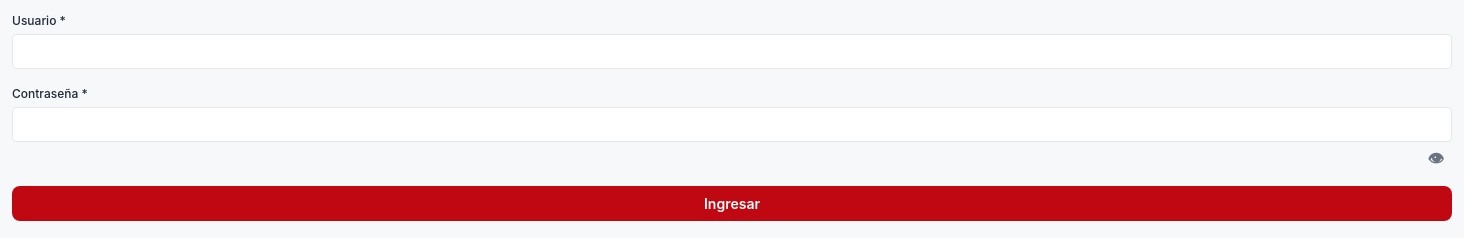
Test: LoginForm › al recibir un error del servidor limpia y reenfoca la contraseña
In the field labelled "Usuario *": [732, 52] box [12,34,1452,69], type "estudiante.demo"
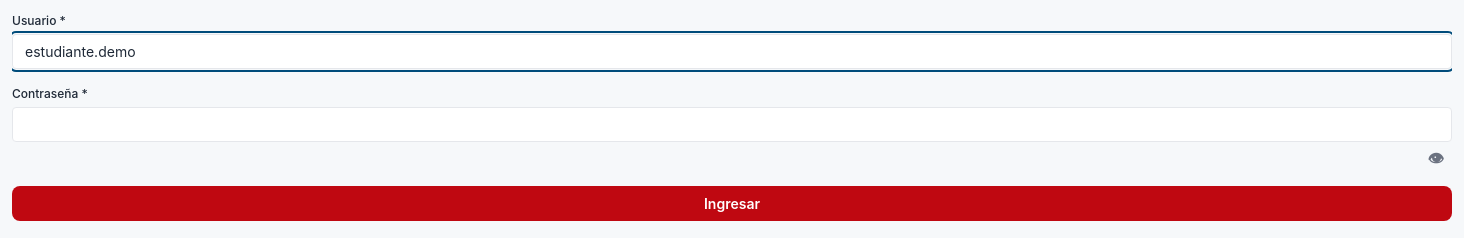
In the password field labelled "Contraseña *": [732, 124] box [12,107,1452,142], type "incorrecta"
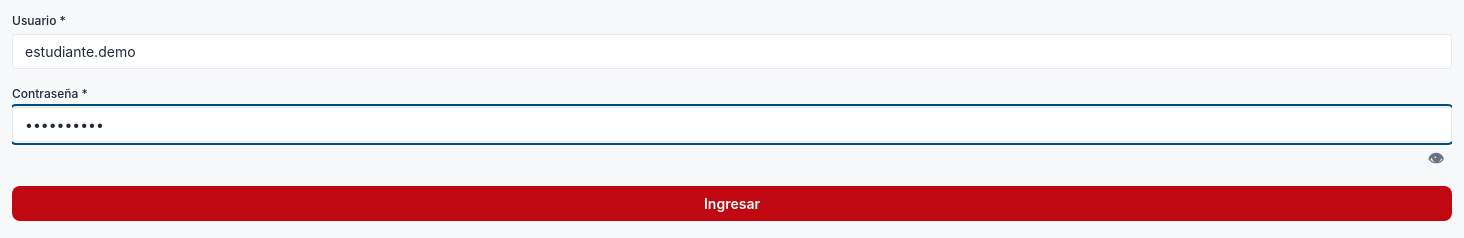
Click the button "Ingresar": [732, 204] box [12,186,1452,221]
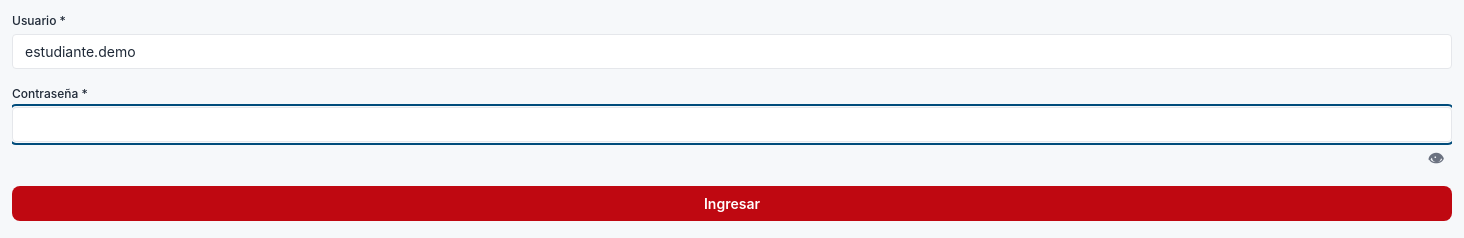
Now the password field labelled "Contraseña *" is empty, box [12,107,1452,142]
